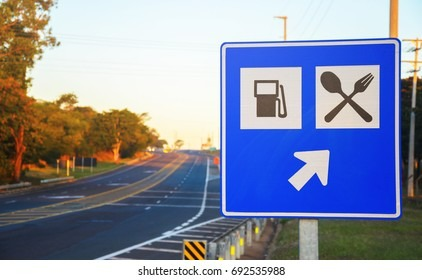fuel-station: (240, 68, 301, 128)
